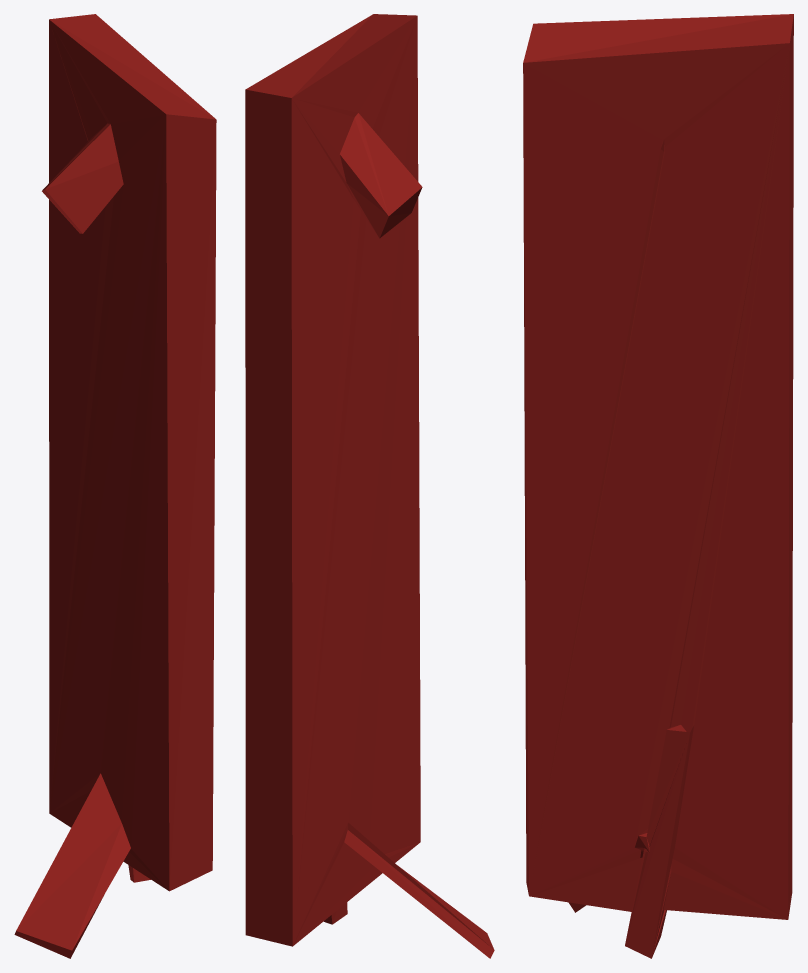
3 views of the same model, side by side, from view 1: azimuth 30°, elevation 25°; view 2: azimuth 150°, elevation 25°; view 3: azimuth 270°, elevation 25° (orthographic). The views are drawn at different scales.
Visible parts, largest first — view 1: 772_Cube.3109; view 2: 772_Cube.3109; view 3: 772_Cube.3109.
Part boxes in pixels (box(x1,y1,x2,y2)): 772_Cube.3109: box(14, 14, 216, 958); 772_Cube.3109: box(245, 14, 494, 958); 772_Cube.3109: box(523, 14, 793, 958).
Bounding box in the file's own units: 2.79 × 13.07 × 3.41.
